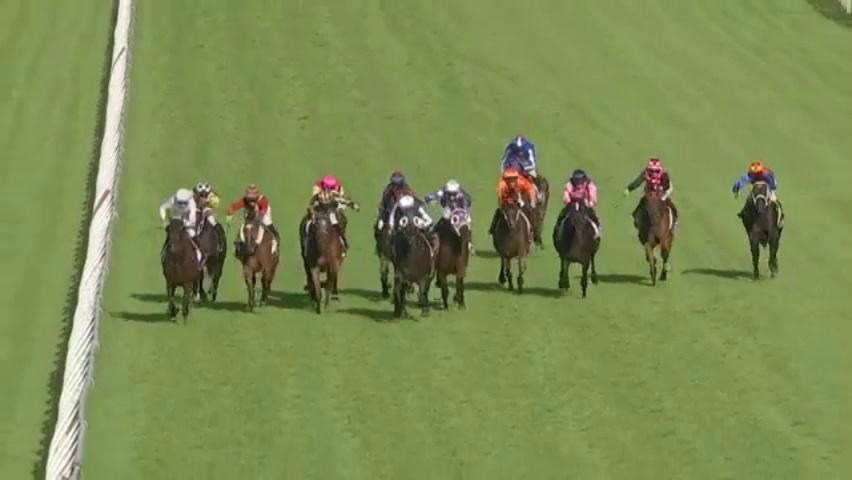racing-horse: (729, 148, 801, 284), (178, 150, 232, 327), (366, 147, 416, 336), (147, 182, 211, 327), (628, 144, 692, 289), (492, 120, 559, 252), (548, 156, 612, 293), (426, 169, 484, 314), (220, 177, 277, 317), (483, 161, 536, 311), (389, 191, 439, 336), (288, 194, 347, 307), (309, 161, 363, 279)
